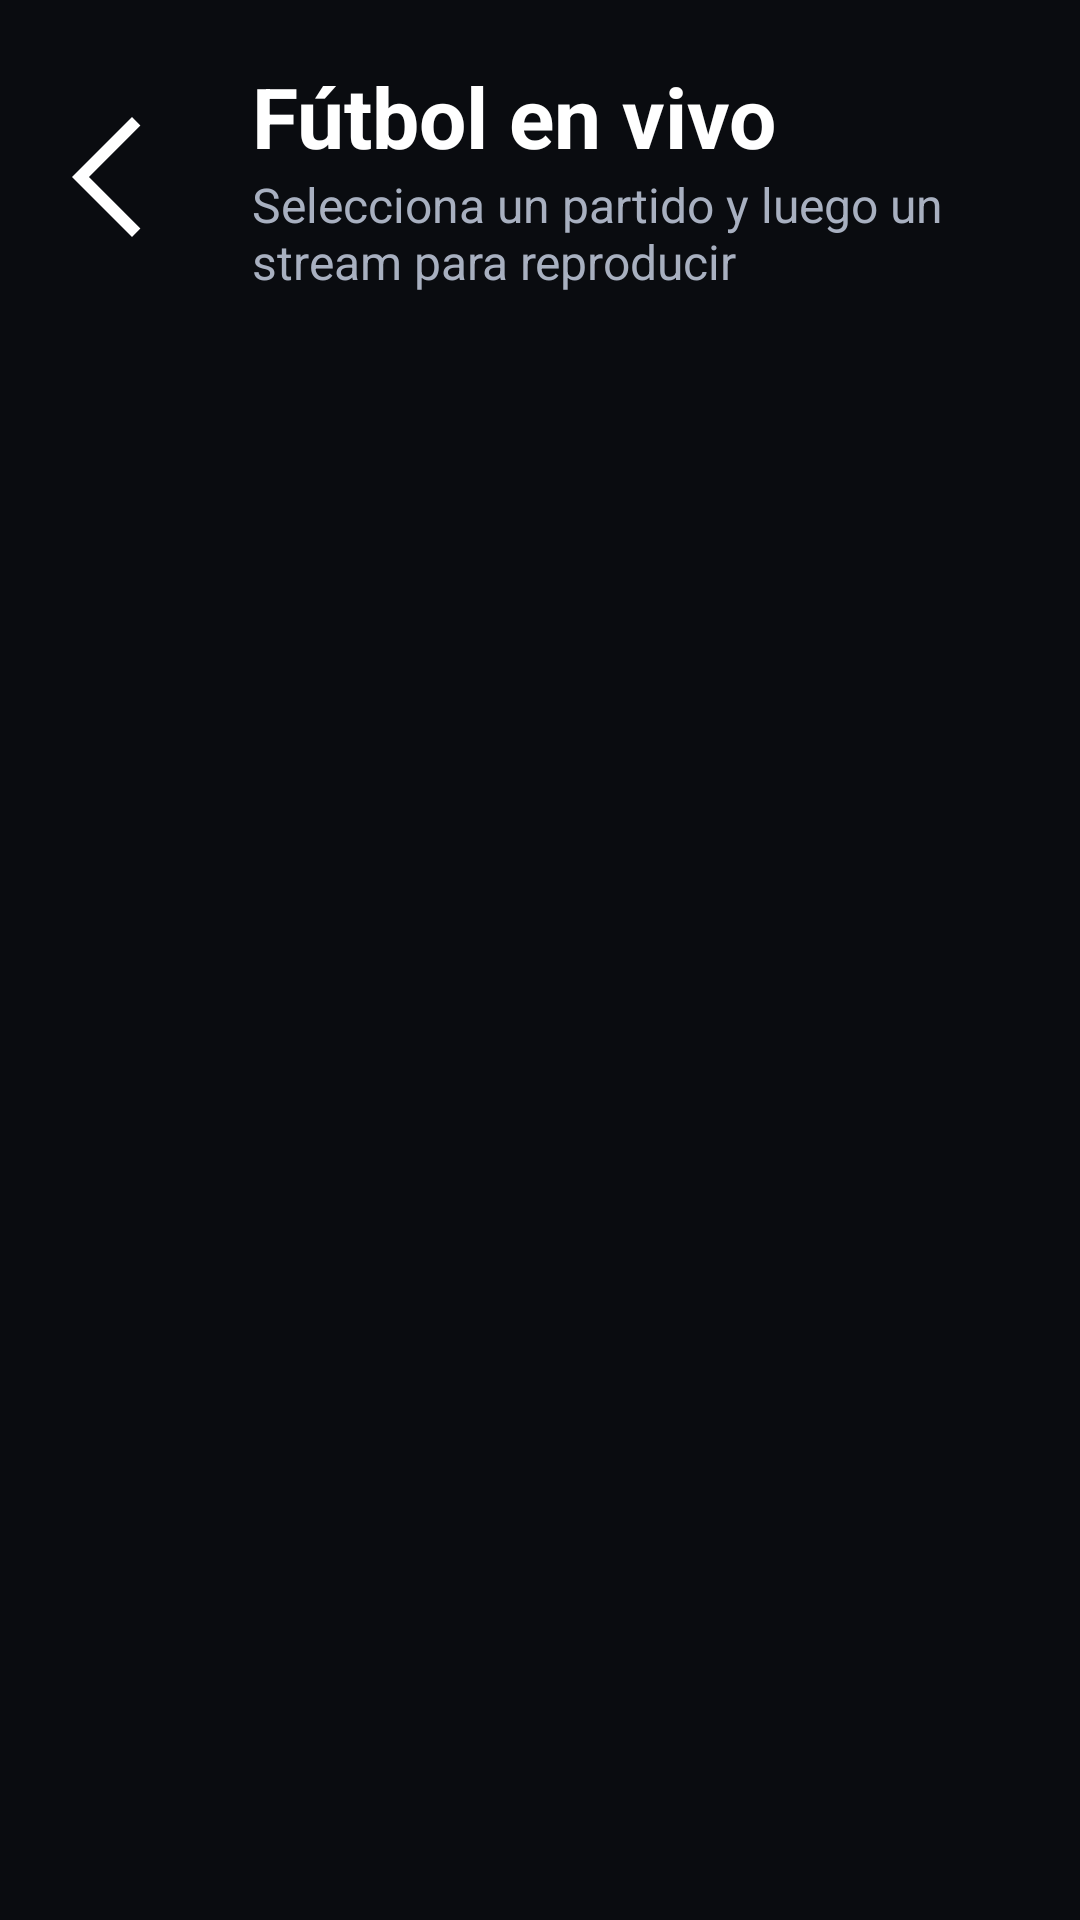

Named icons in this screenshot (1080*1920) and their centers, (x=x, y=y):
Volver: (x=106, y=177)
